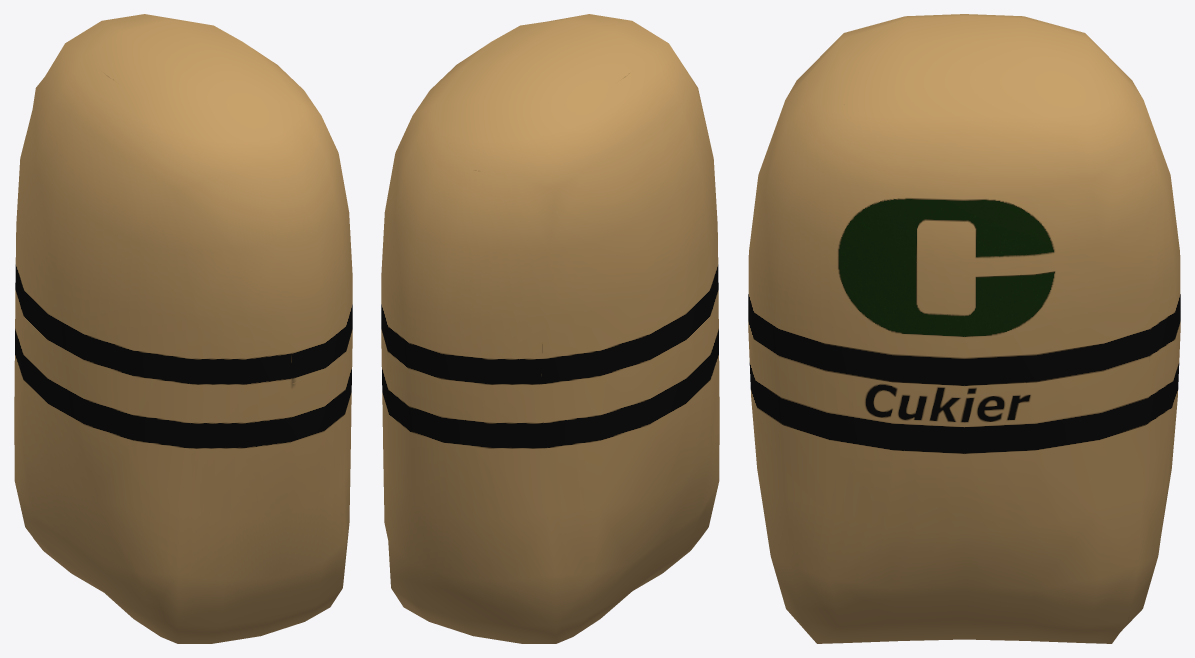
The model's file is Cukier.gltf.
3 views of the same model, side by side, from view 1: azimuth 30°, elevation 25°; view 2: azimuth 150°, elevation 25°; view 3: azimuth 270°, elevation 25° (orthographic). The views are drawn at different scales.
Parts seen in each view (by area): view 1: Retopo_Cube.001; view 2: Retopo_Cube.001; view 3: Retopo_Cube.001.
Boxes of the visible parts, left/top/right/bottom form: Retopo_Cube.001: left=14, top=14, right=352, bottom=643; Retopo_Cube.001: left=381, top=14, right=719, bottom=643; Retopo_Cube.001: left=748, top=14, right=1180, bottom=643.
Bounding box in the file's own units: 0.8717 × 1.7 × 1.14.
Materials: 1 (1 with a texture image).
